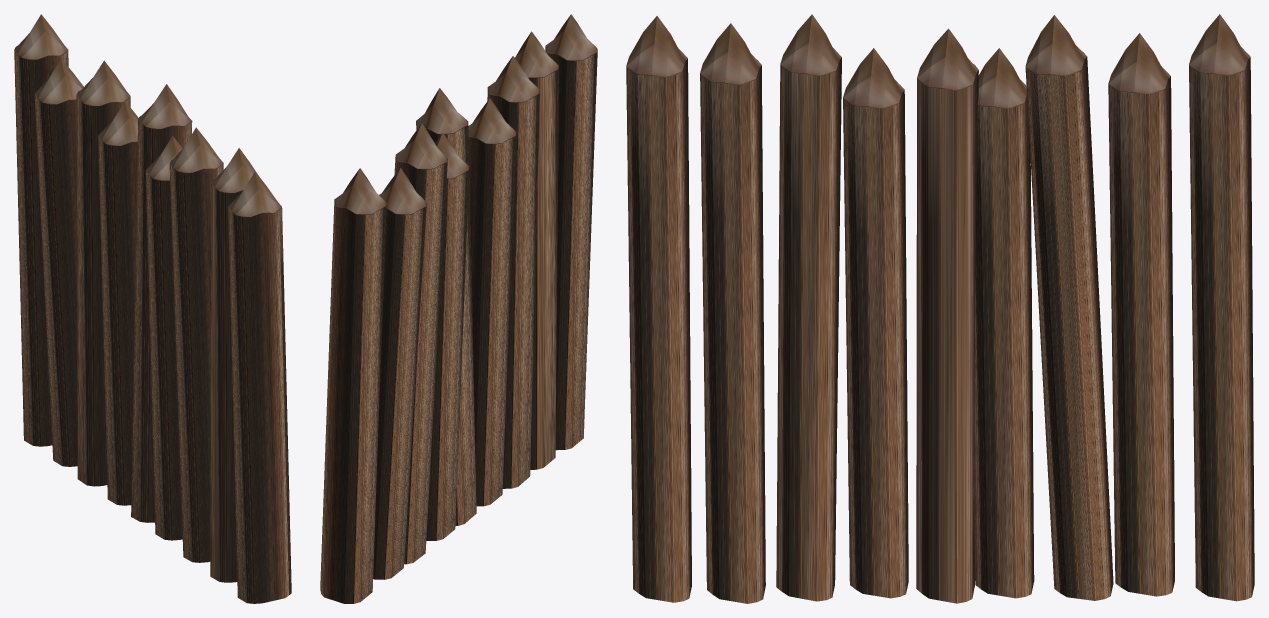
The model's file is LogWall2.glb.
The picture shows the model from 3 angles, left to right: view 1: azimuth 30°, elevation 25°; view 2: azimuth 150°, elevation 25°; view 3: azimuth 270°, elevation 25°; orthographic projection. The views are drawn at different scales.
Parts seen in each view (by area): view 1: Plane.008, Plane.004, Plane.005, Plane.001, Plane.006, Plane.009, Plane.003, Plane.007, Plane.002; view 2: Plane.009, Plane.003, Plane.008, Plane.005, Plane.004, Plane.001, Plane.007, Plane.006, Plane.002; view 3: Plane.006, Plane.008, Plane.009, Plane.004, Plane.007, Plane.005, Plane.002, Plane.003, Plane.001.
Boxes of the visible parts, x1,y1,x2,y2 form: Plane.008: (228, 171, 291, 603); Plane.004: (169, 127, 223, 562); Plane.005: (34, 59, 83, 466); Plane.001: (98, 101, 138, 505); Plane.006: (76, 60, 130, 486); Plane.009: (14, 14, 68, 446); Plane.003: (145, 136, 182, 540); Plane.007: (210, 148, 258, 582); Plane.002: (131, 84, 192, 522); Plane.009: (320, 168, 386, 603); Plane.003: (468, 98, 516, 506); Plane.008: (545, 14, 597, 450); Plane.005: (373, 168, 426, 579); Plane.004: (487, 56, 539, 488); Plane.001: (426, 133, 469, 540); Plane.007: (507, 31, 558, 469); Plane.006: (394, 123, 447, 564); Plane.002: (416, 88, 476, 526); Plane.006: (1025, 15, 1113, 600); Plane.008: (626, 16, 691, 602); Plane.009: (1189, 14, 1254, 601); Plane.004: (776, 14, 841, 601); Plane.007: (700, 23, 765, 603); Plane.005: (1108, 33, 1174, 596); Plane.002: (916, 28, 978, 603); Plane.003: (843, 48, 908, 598); Plane.001: (974, 48, 1034, 598).
Bounding box in the file's own units: 1.46 × 7.9 × 7.89.
Materials: 2 (2 with a texture image).
